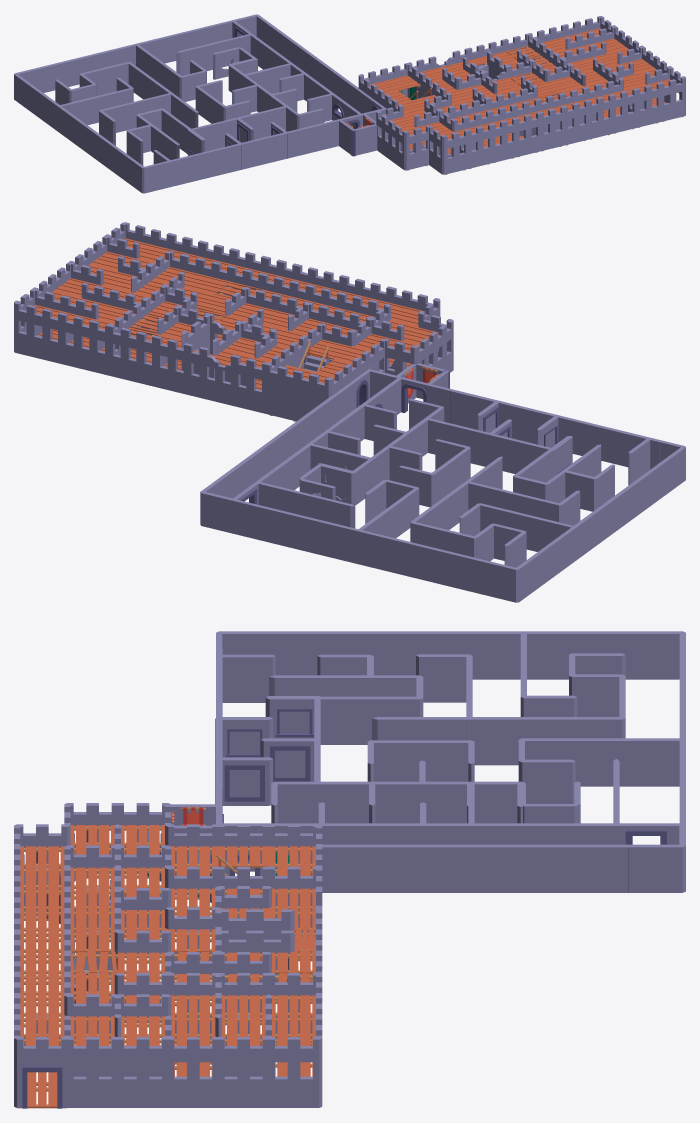
The model's file is FullMaze.obj.
The picture shows the model from 3 angles, top to bottom: view 1: azimuth 30°, elevation 25°; view 2: azimuth 150°, elevation 25°; view 3: azimuth 270°, elevation 25°; orthographic projection. The views are drawn at different scales.
Parts seen in each view (by area): view 1: mergedBlocks; view 2: mergedBlocks; view 3: mergedBlocks.
Boxes of the visible parts, <box> form: mergedBlocks: <box>14,14,685,193</box>; mergedBlocks: <box>14,222,685,602</box>; mergedBlocks: <box>14,631,685,1108</box>.
Bounding box in the file's own units: 20.29 × 1.55 × 13.35.
